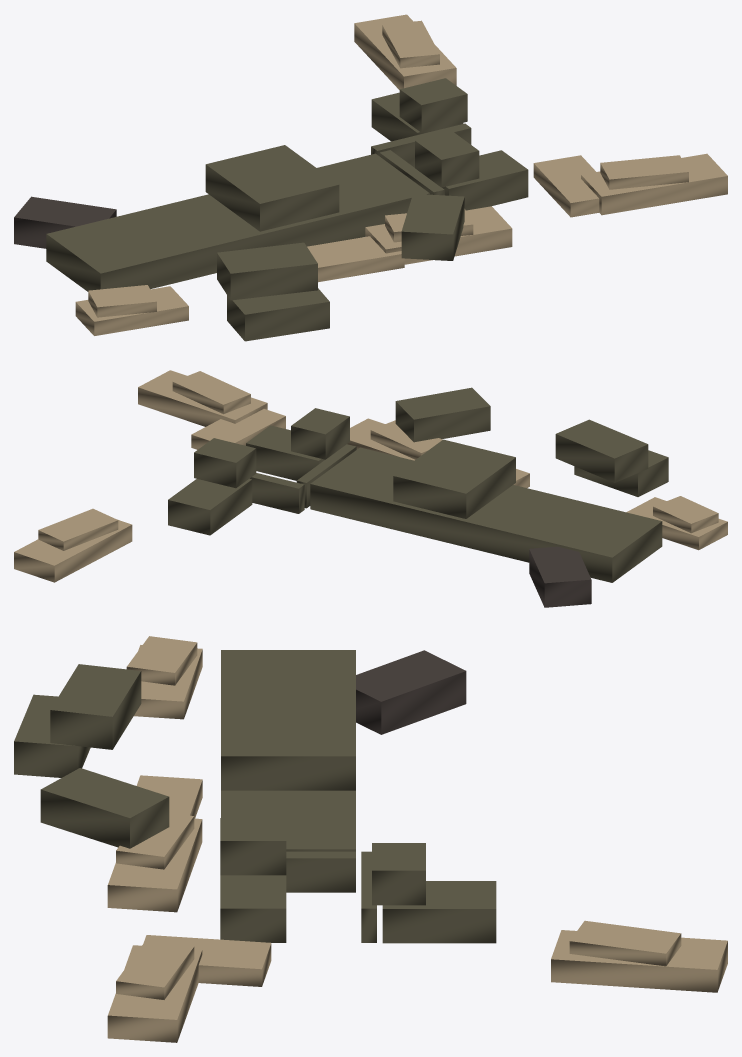
Rendered from SM_SacosRemateEspejo_v1_Talud_e2_MuyDanado_LOD1.fbx.
3 renders of one model, top to bottom at view 1: azimuth 30°, elevation 25°; view 2: azimuth 150°, elevation 25°; view 3: azimuth 270°, elevation 25°, orthographic. The views are drawn at different scales.
Visible parts, largest first — view 1: SM_sacos_piezas_v26_LOD1; view 2: SM_sacos_piezas_v26_LOD1; view 3: SM_sacos_piezas_v26_LOD1.
Part boxes in pixels (x1,y1,x2,y2): SM_sacos_piezas_v26_LOD1: (14,14,727,341); SM_sacos_piezas_v26_LOD1: (14,370,727,607); SM_sacos_piezas_v26_LOD1: (14,636,727,1042).
Size of the model in its own units: 6.41 by 0.585 by 5.09.
